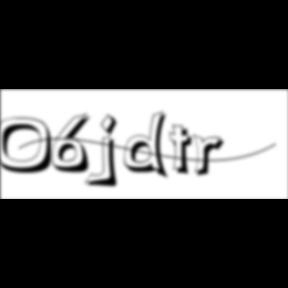6: (51, 112, 96, 176)
O: (0, 117, 60, 176)
d: (124, 110, 174, 182)
j: (98, 113, 124, 191)
r: (193, 134, 231, 180)
t: (170, 124, 200, 179)
